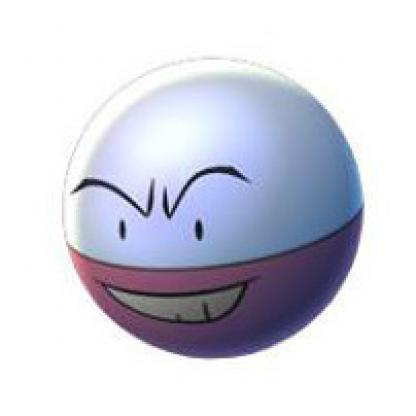Electrode: (71, 51, 359, 366)
